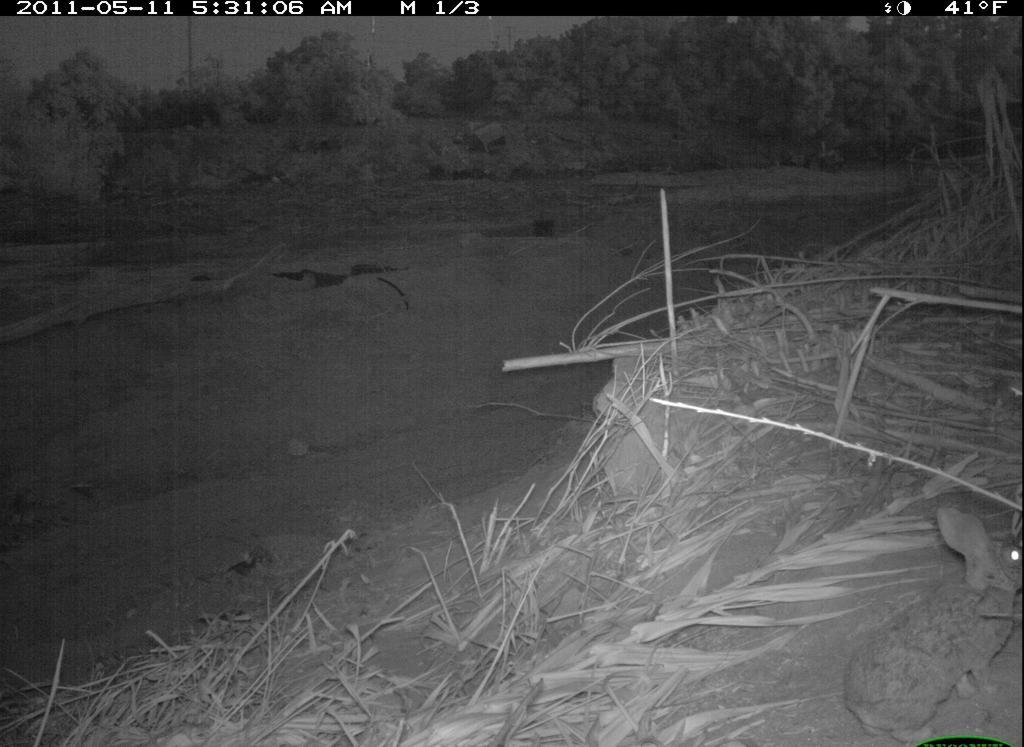rabbit: (836, 496, 1023, 747)
